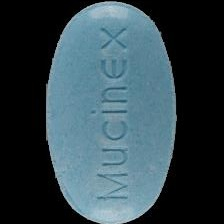61919-651: (0, 0, 224, 224)
